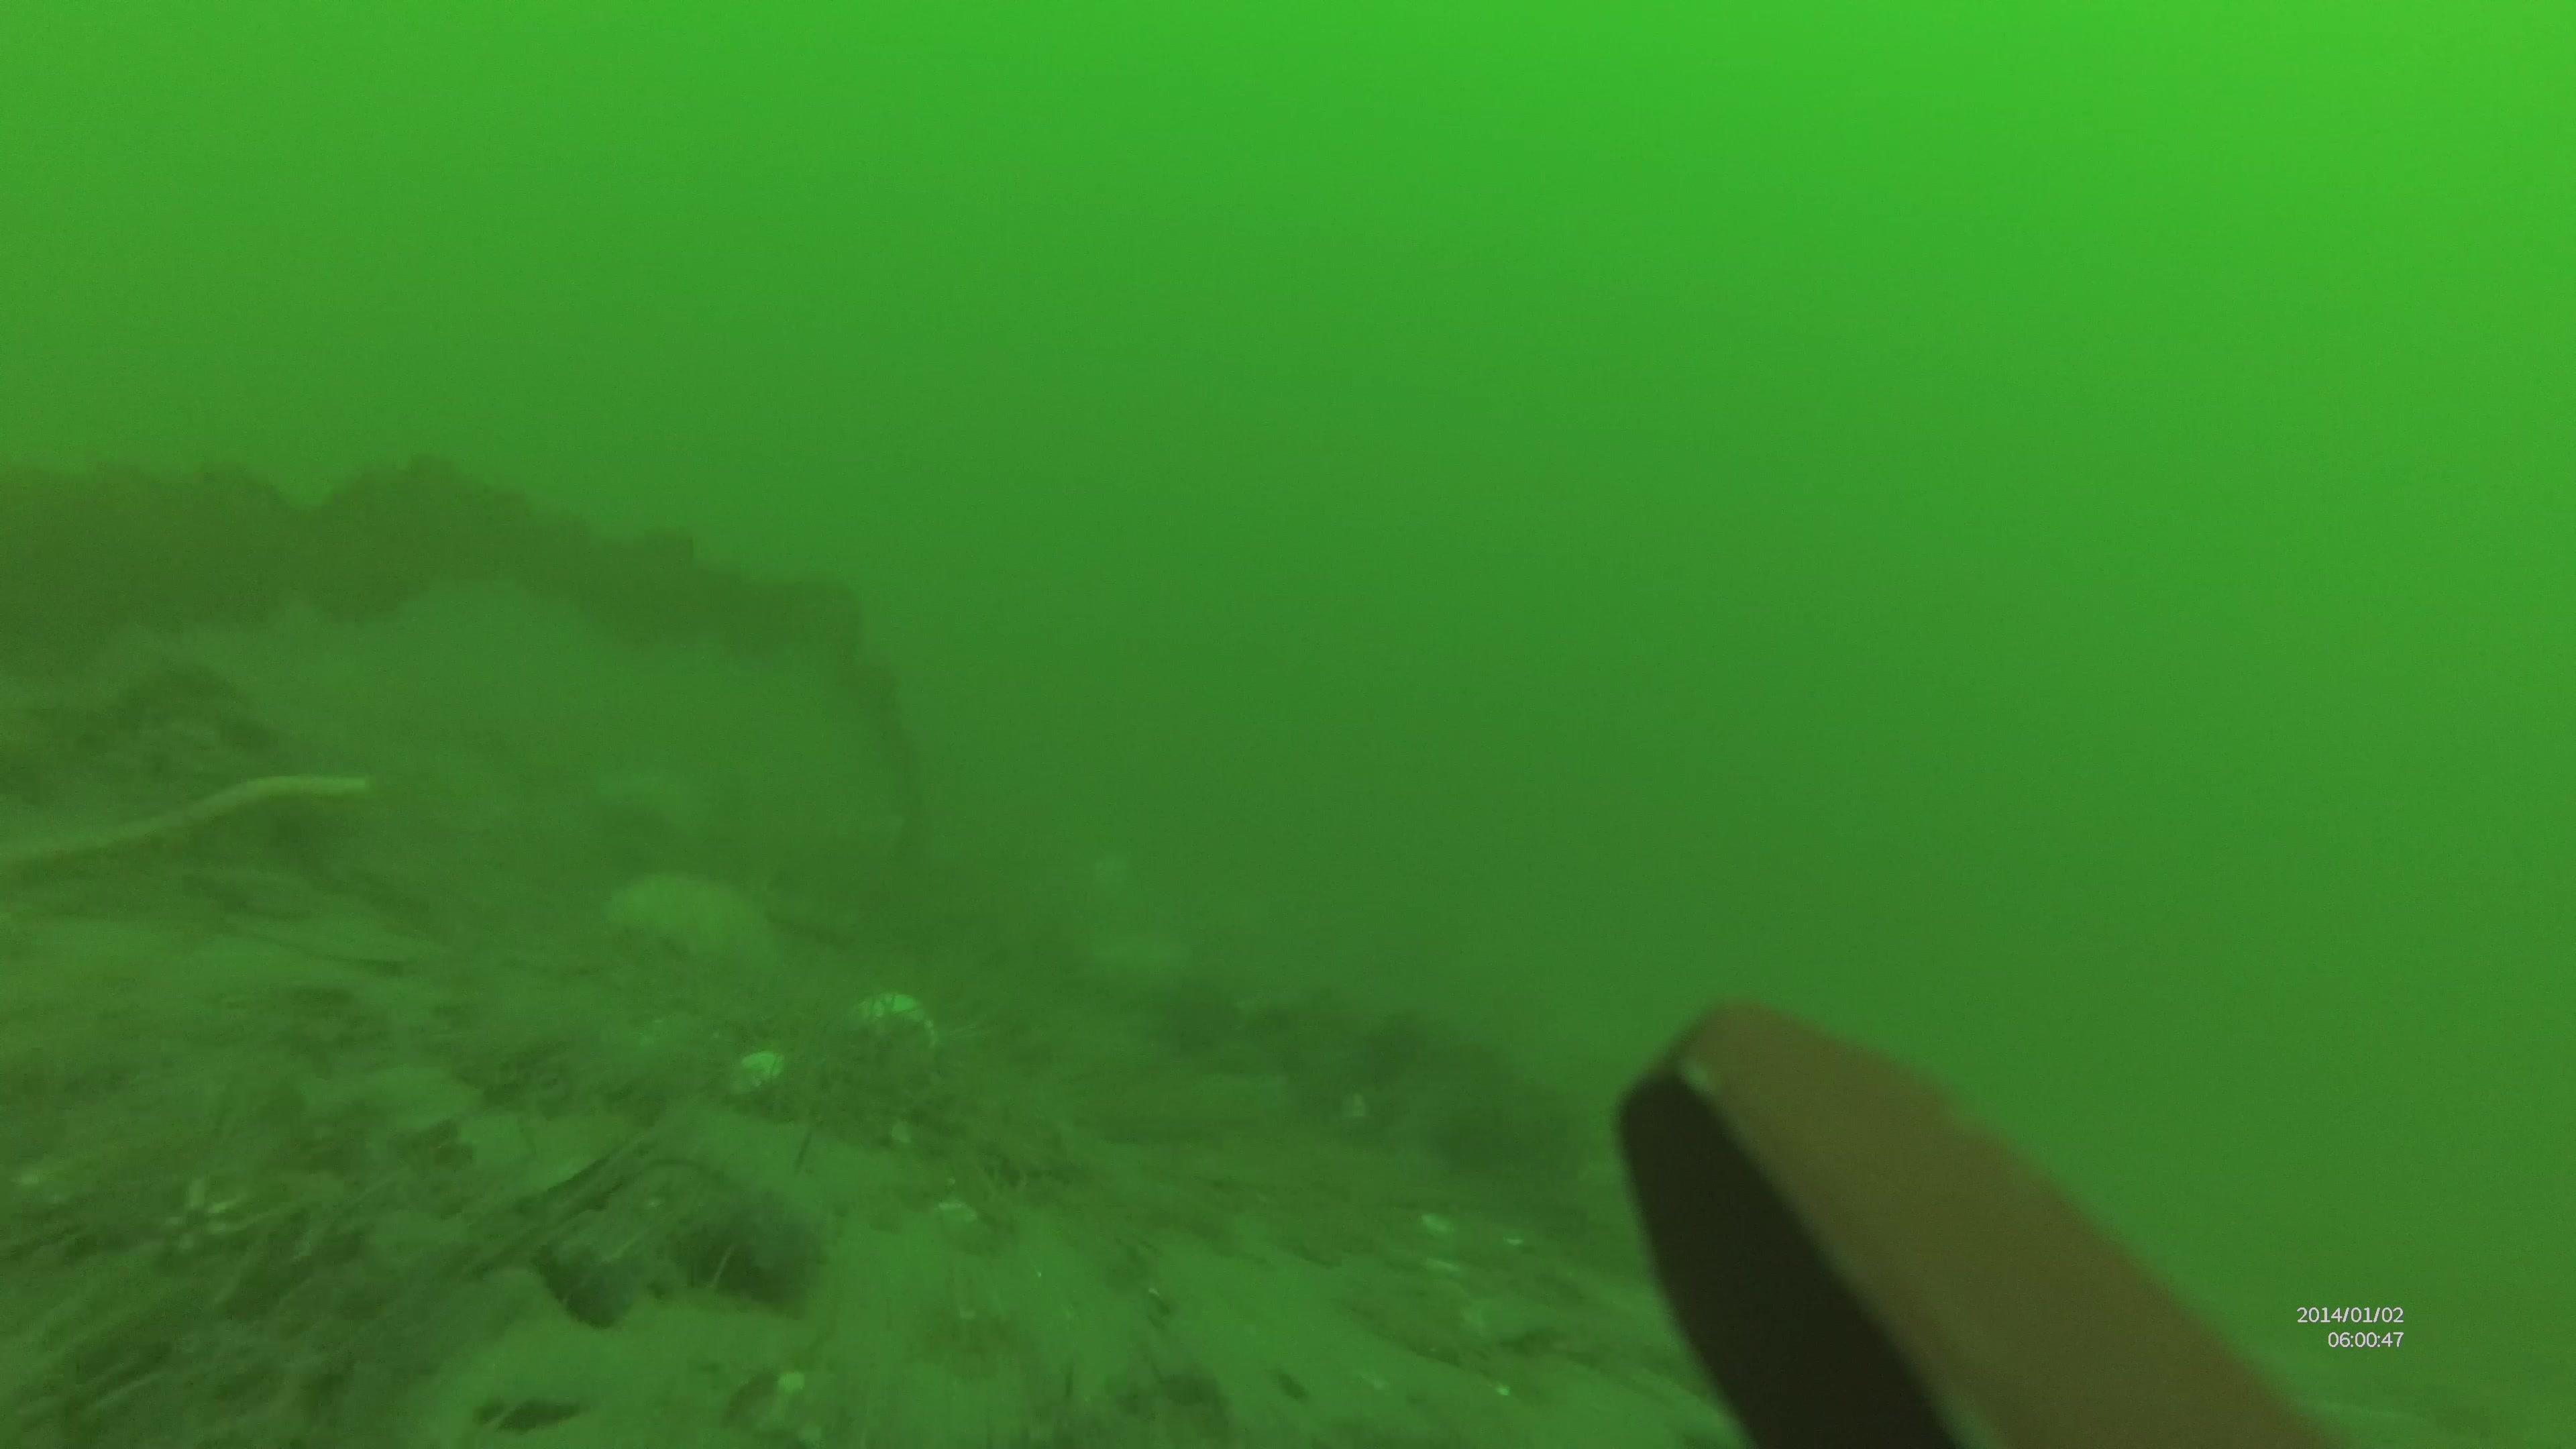starfish: (607, 872, 771, 977)
